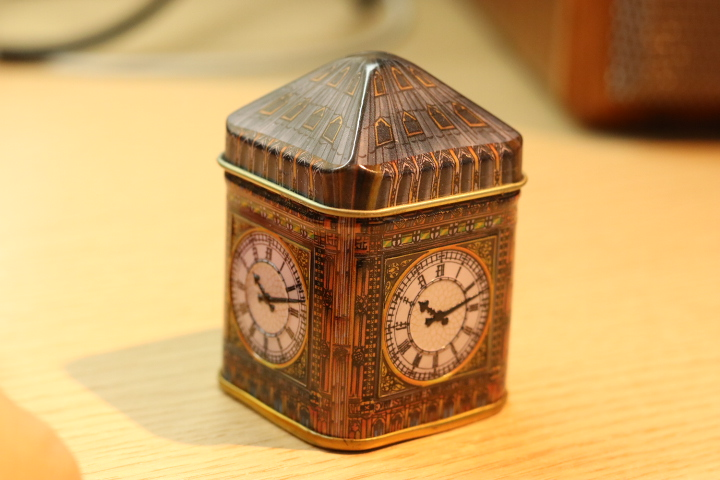Big Ben: (202, 39, 541, 470)
